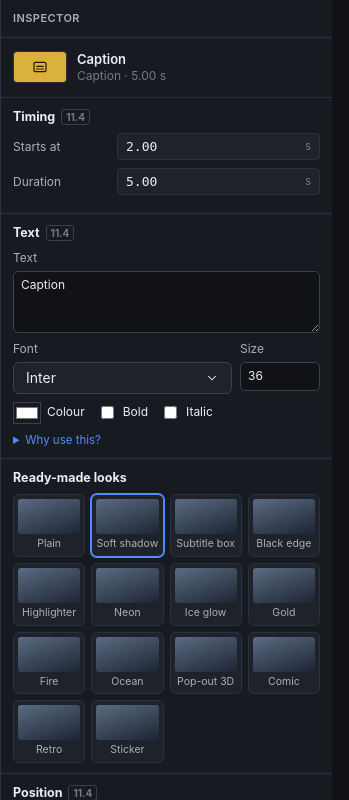
Test case: text inspector (screens 02–04) › explains a size that is too big, and changes nothing
Replace the text in the number field labelled "Size" with "900". click: {"x": 280, "y": 376}
box: [240,362,320,391]
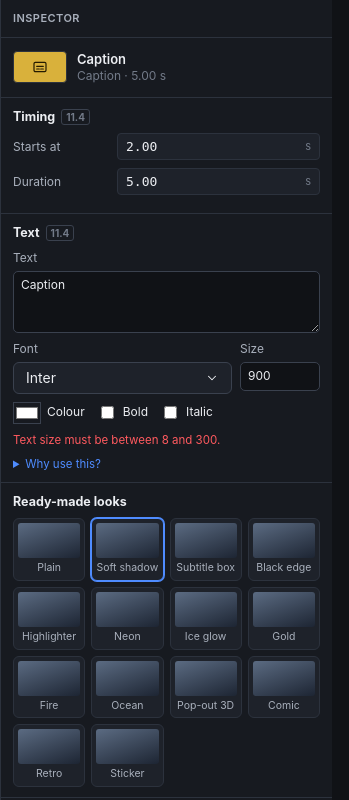
Now the message shows "between 8 and 300", box [13,433,220,447]
